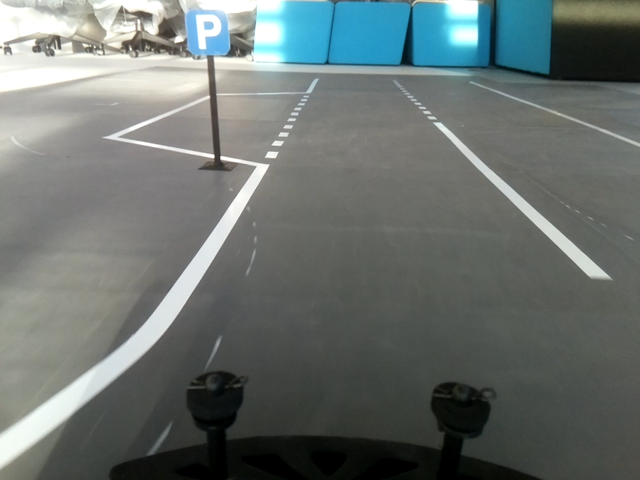parking: (184, 9, 229, 55)
